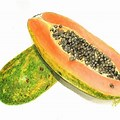papaya: (27, 11, 120, 103)
